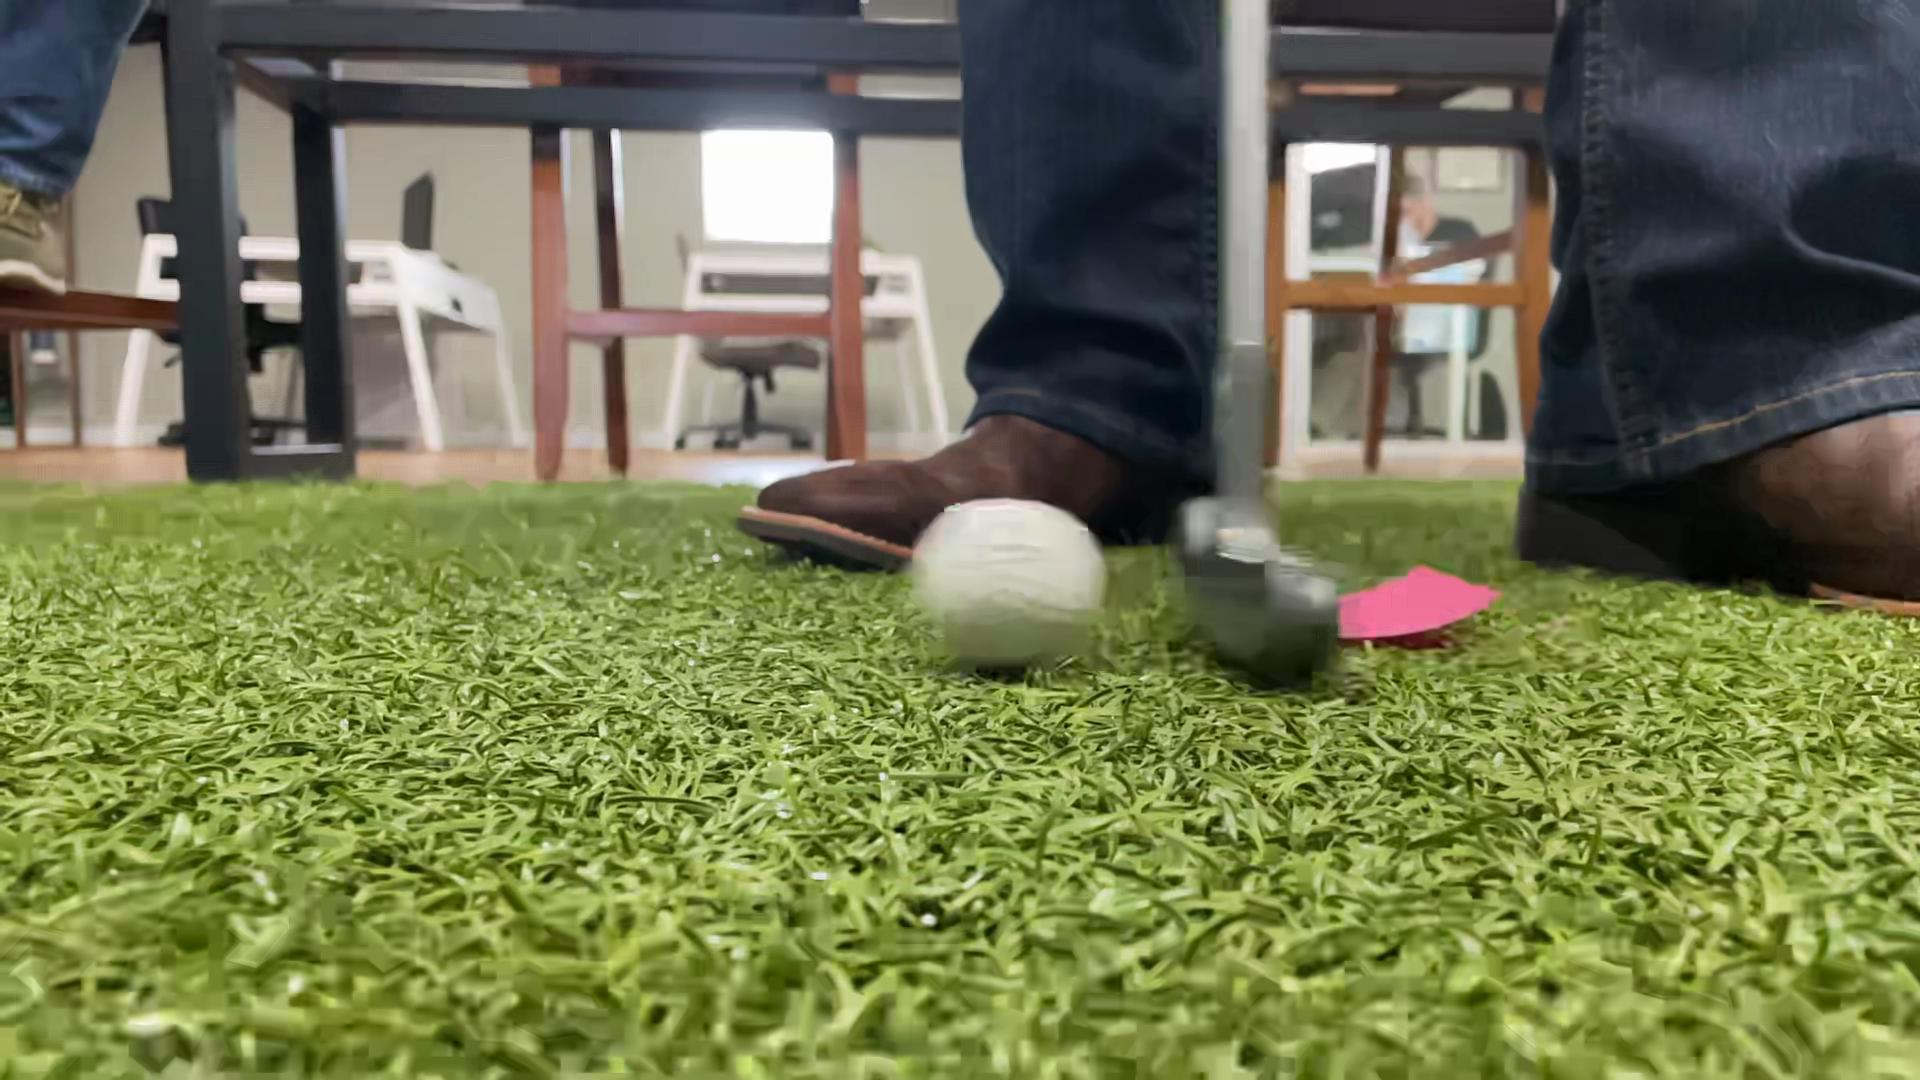golfball: (910, 499, 1106, 665)
